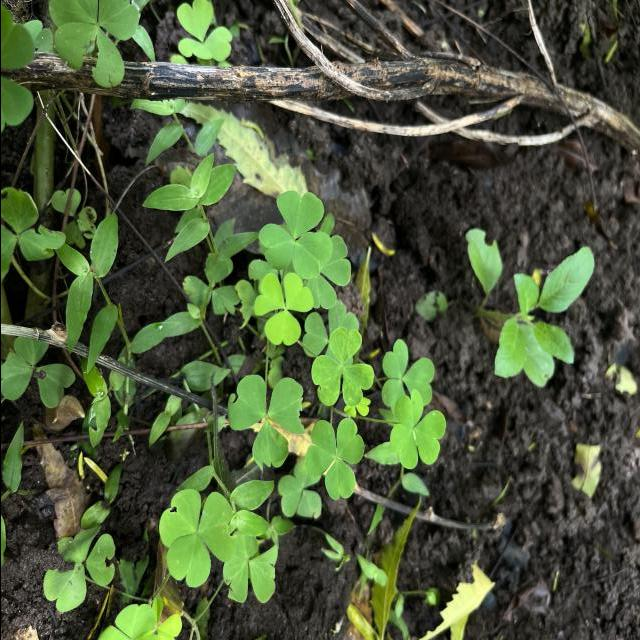Oxalis corniculata: (46, 0, 140, 90), (158, 488, 238, 588), (226, 374, 306, 474), (257, 190, 333, 280), (302, 416, 364, 501), (310, 326, 374, 408), (388, 388, 446, 470), (252, 272, 313, 346), (222, 526, 278, 604), (380, 338, 434, 407), (175, 0, 233, 63)
